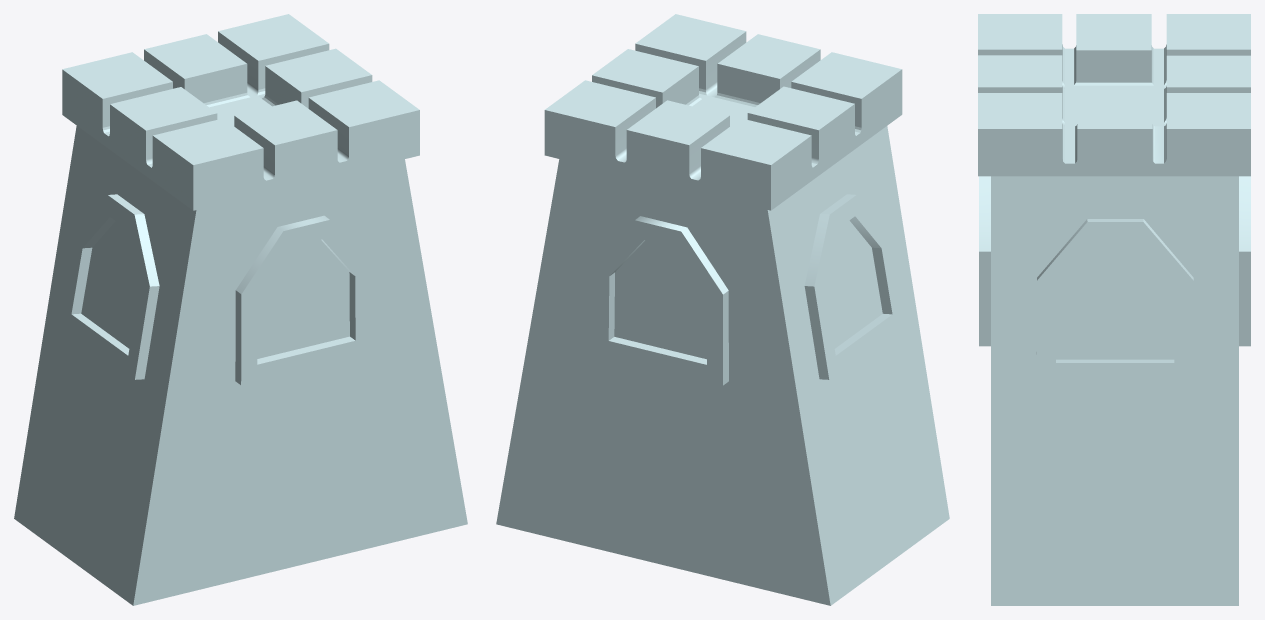
The model's file is SS_Castle_Tower5.fbx.
3 renders of one model, left to right at view 1: azimuth 30°, elevation 25°; view 2: azimuth 150°, elevation 25°; view 3: azimuth 270°, elevation 25°, orthographic. The views are drawn at different scales.
Parts seen in each view (by area): view 1: CastleTower5; view 2: CastleTower5; view 3: CastleTower5.
Boxes of the visible parts, x1,y1,x2,y2 form: CastleTower5: (14, 14, 467, 605); CastleTower5: (496, 14, 949, 605); CastleTower5: (978, 14, 1250, 605).
Size of the model in its own units: 8.11 by 10 by 5.5.
